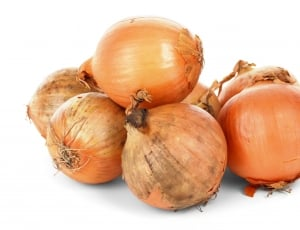onion: (94, 8, 207, 105)
onion rotten: (130, 114, 228, 212), (49, 89, 125, 187)
